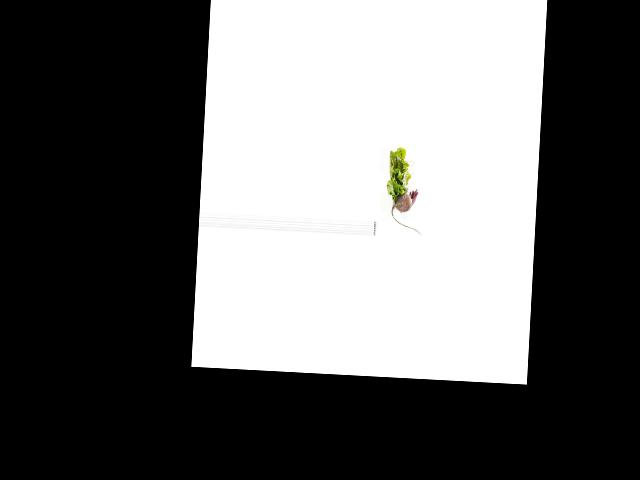beet: (389, 187, 423, 236)
